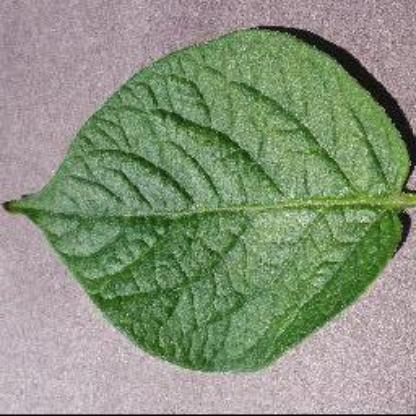Healthy-plant: (3, 9, 414, 378)
